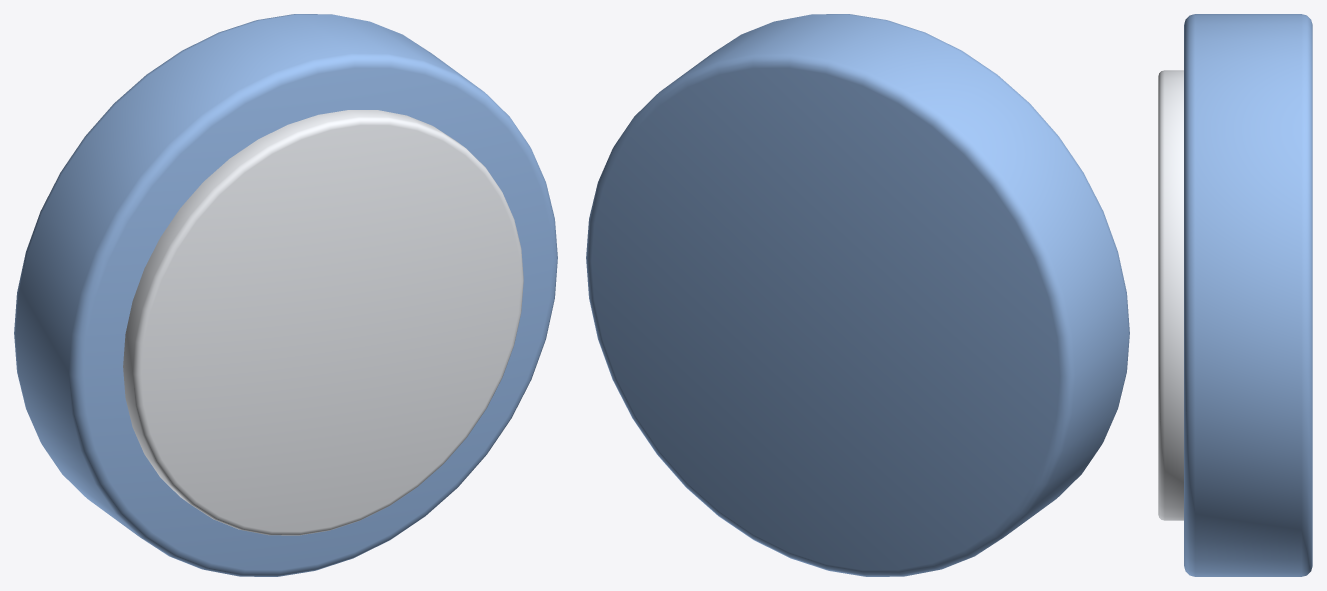
File: circulo-claro.glb
3 views of the same model, side by side, from view 1: azimuth 30°, elevation 25°; view 2: azimuth 150°, elevation 25°; view 3: azimuth 270°, elevation 25° (orthographic).
Visible parts, largest first — view 1: placa, borde; view 2: borde; view 3: borde, placa.
Boxes of the visible parts, x1,y1,x2,y2 form: placa: (123,110,523,535); borde: (14,14,557,576); borde: (586,14,1129,576); borde: (1184,14,1312,576); placa: (1158,70,1183,520).
Bounding box in the file's own units: 0.7 × 0.7 × 0.192.
